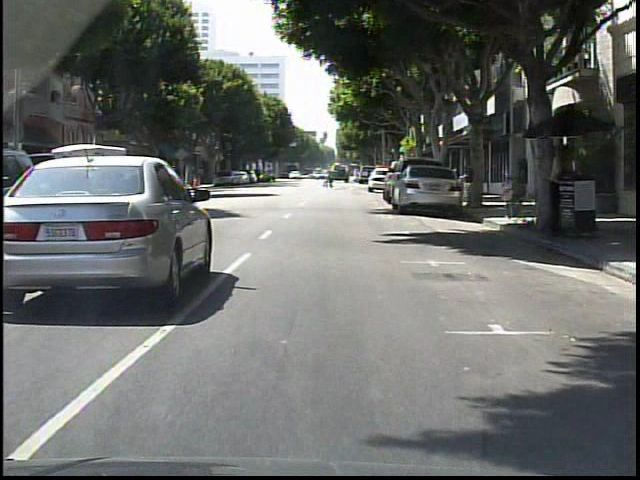person: (545, 143, 579, 233), (321, 167, 336, 190)
